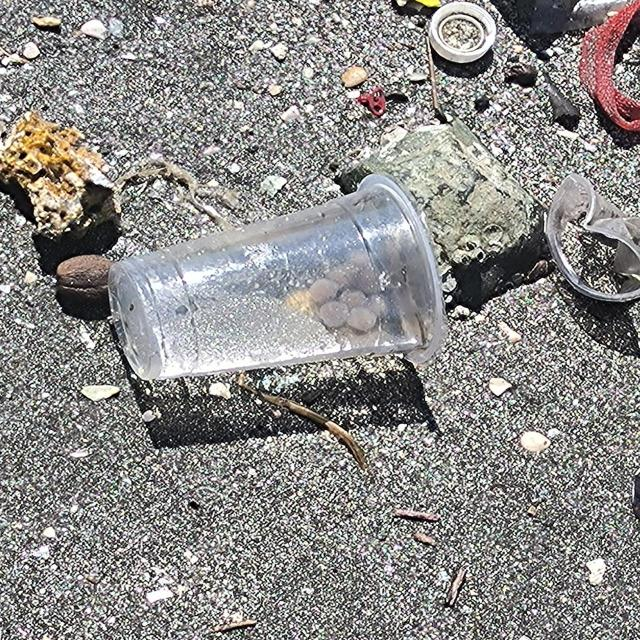plastic_waste: (107, 173, 449, 383), (549, 174, 640, 304), (429, 3, 499, 67)
